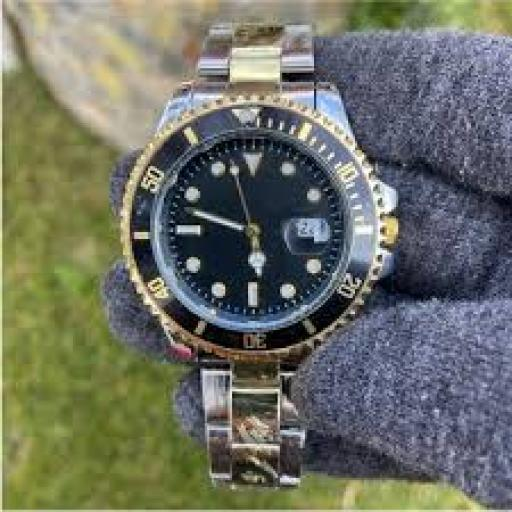KolSaati: (76, 26, 412, 492)
